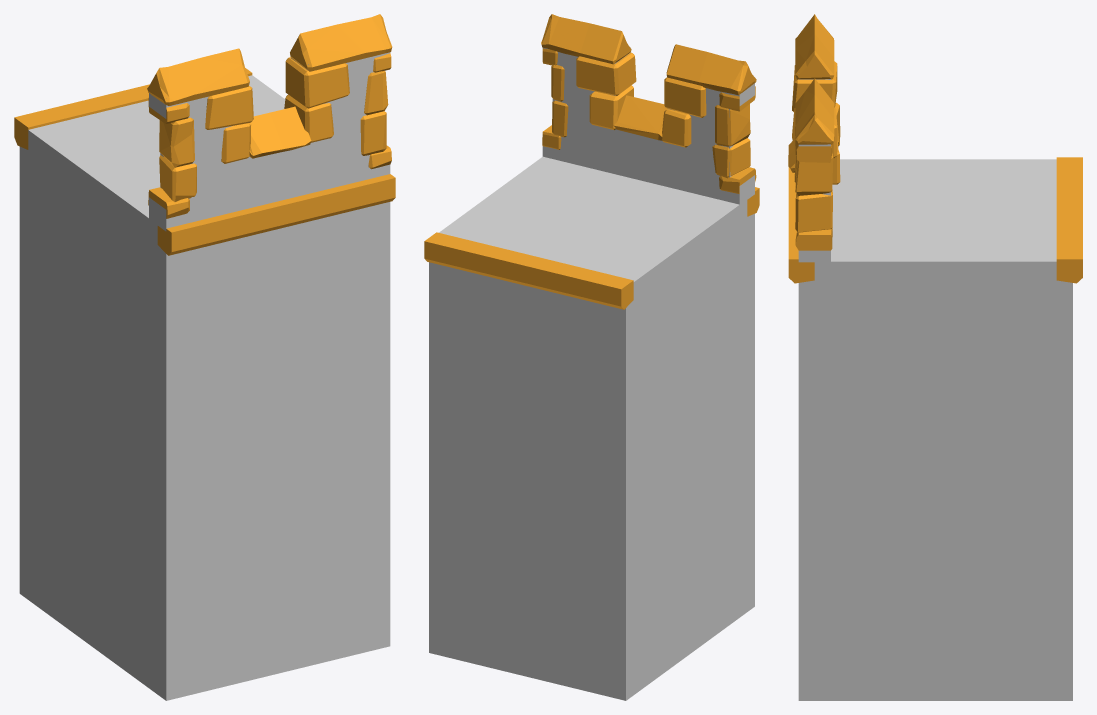
File: SM_Rampart_3x6m_Battlement_A_Fantasy_Base.fbx
3 views of the same model, side by side, from view 1: azimuth 30°, elevation 25°; view 2: azimuth 150°, elevation 25°; view 3: azimuth 270°, elevation 25° (orthographic). The views are drawn at different scales.
Parts seen in each view (by area): view 1: SM_Rampart_3x6m_Battlement_A_Fantasy_Base; view 2: SM_Rampart_3x6m_Battlement_A_Fantasy_Base; view 3: SM_Rampart_3x6m_Battlement_A_Fantasy_Base.
Boxes of the visible parts, x1,y1,x2,y2 form: SM_Rampart_3x6m_Battlement_A_Fantasy_Base: (14, 14, 395, 700); SM_Rampart_3x6m_Battlement_A_Fantasy_Base: (424, 14, 759, 700); SM_Rampart_3x6m_Battlement_A_Fantasy_Base: (788, 14, 1082, 700).
Bounding box in the file's own units: 3.03 × 8.01 × 3.65.
